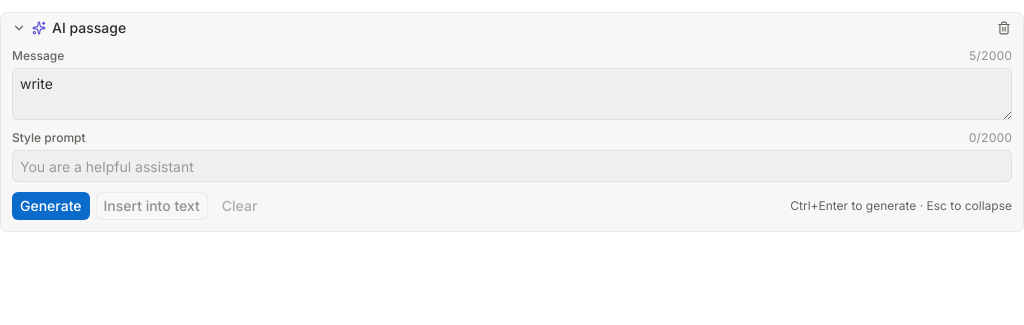
Test: AiBeatInline › says so when the stream closed before finishing
The width and height of the screenshot is (1024, 325).
Click the button "Generate": (51, 206) x1=12 y1=192 x2=90 y2=220
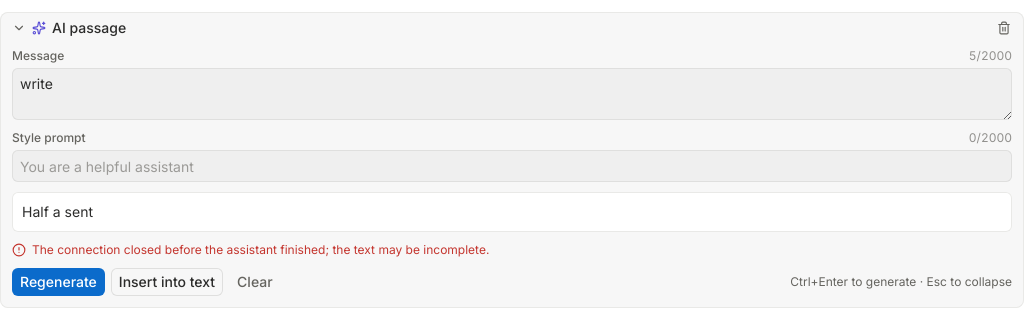
Result: the message shows "may be incomplete" at x1=32 y1=242 x2=489 y2=257
